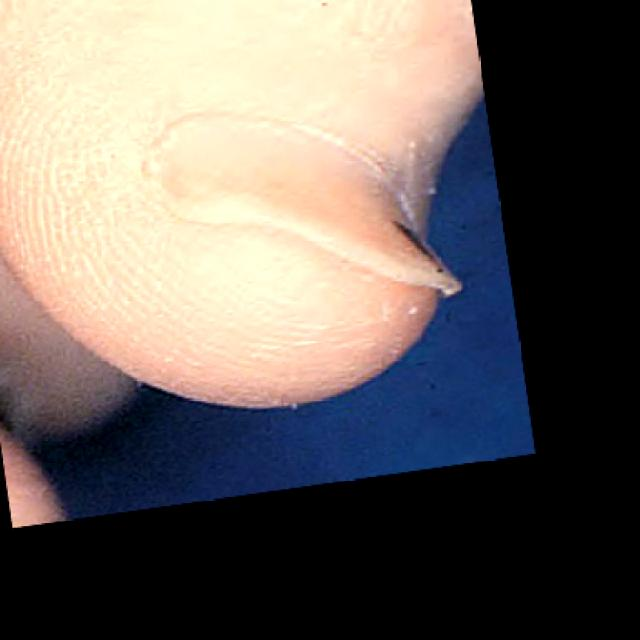Nail: (153, 115, 459, 294)
